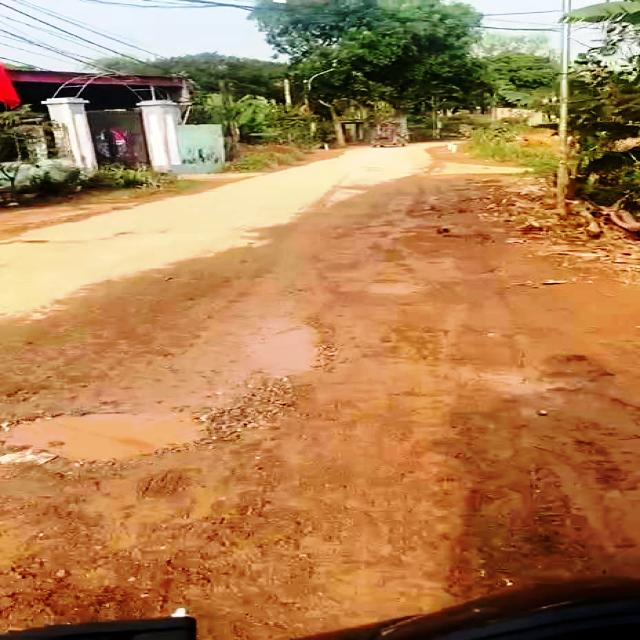pothole: (0, 400, 226, 463)
